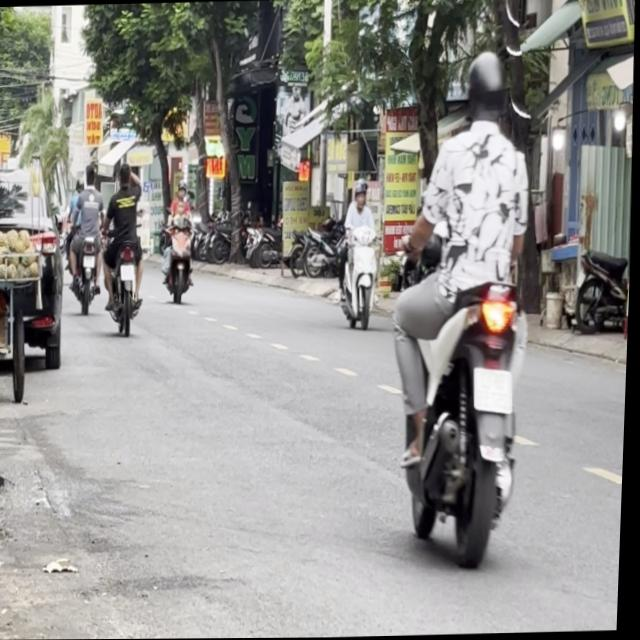helmet: (462, 47, 511, 128), (354, 176, 370, 205)
licenseplate: (379, 44, 546, 569), (333, 175, 385, 330)
nohelmet: (474, 365, 517, 414)
